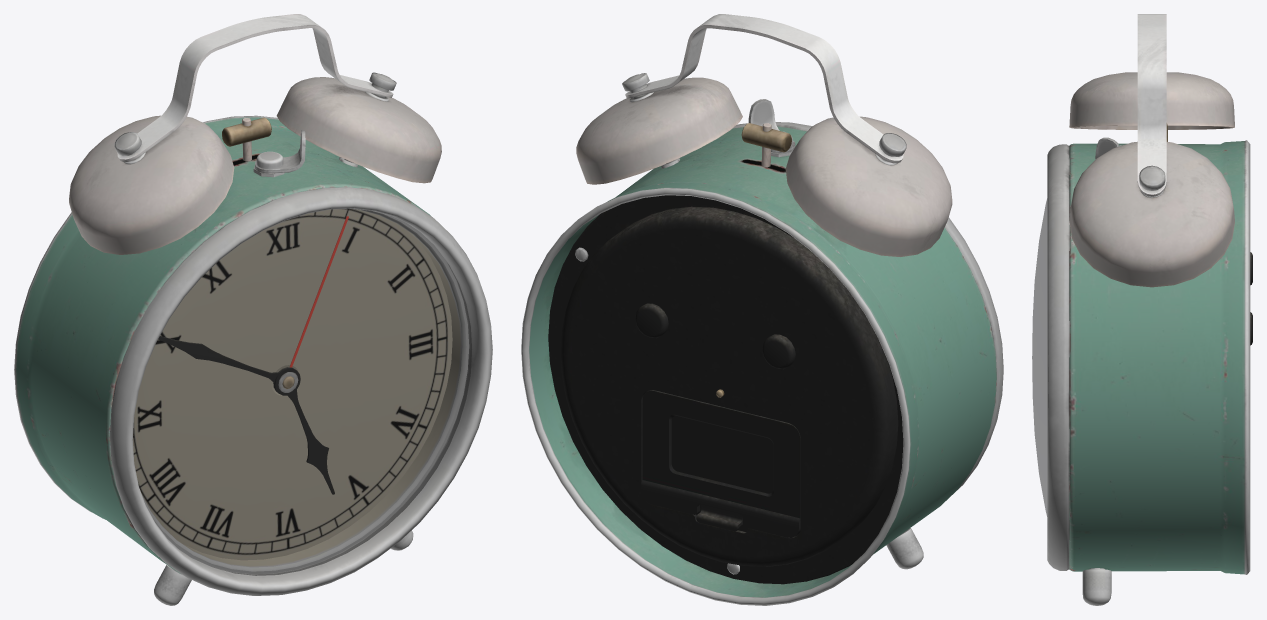
File: alarm.glb
The picture shows the model from 3 angles, left to right: view 1: azimuth 30°, elevation 25°; view 2: azimuth 150°, elevation 25°; view 3: azimuth 270°, elevation 25°; orthographic projection. The views are drawn at different scales.
Parts seen in each view (by area): view 1: alarm_clock_01, alarm_clock_01_glass, alarm_clock_01_hour_hand, alarm_clock_01_minute_hand; view 2: alarm_clock_01; view 3: alarm_clock_01, alarm_clock_01_glass.
Part boxes in pixels (left/top/right/bottom): alarm_clock_01: left=14, top=14, right=492, bottom=605; alarm_clock_01_glass: left=133, top=209, right=471, bottom=575; alarm_clock_01_hour_hand: left=274, top=368, right=334, bottom=494; alarm_clock_01_minute_hand: left=158, top=336, right=293, bottom=391; alarm_clock_01: left=521, top=14, right=1003, bottom=605; alarm_clock_01: left=1047, top=14, right=1252, bottom=605; alarm_clock_01_glass: left=1032, top=199, right=1047, bottom=516.
Size of the model in its own units: 0.1316 by 0.1742 by 0.0667.
Materials: 2 (1 with a texture image).
